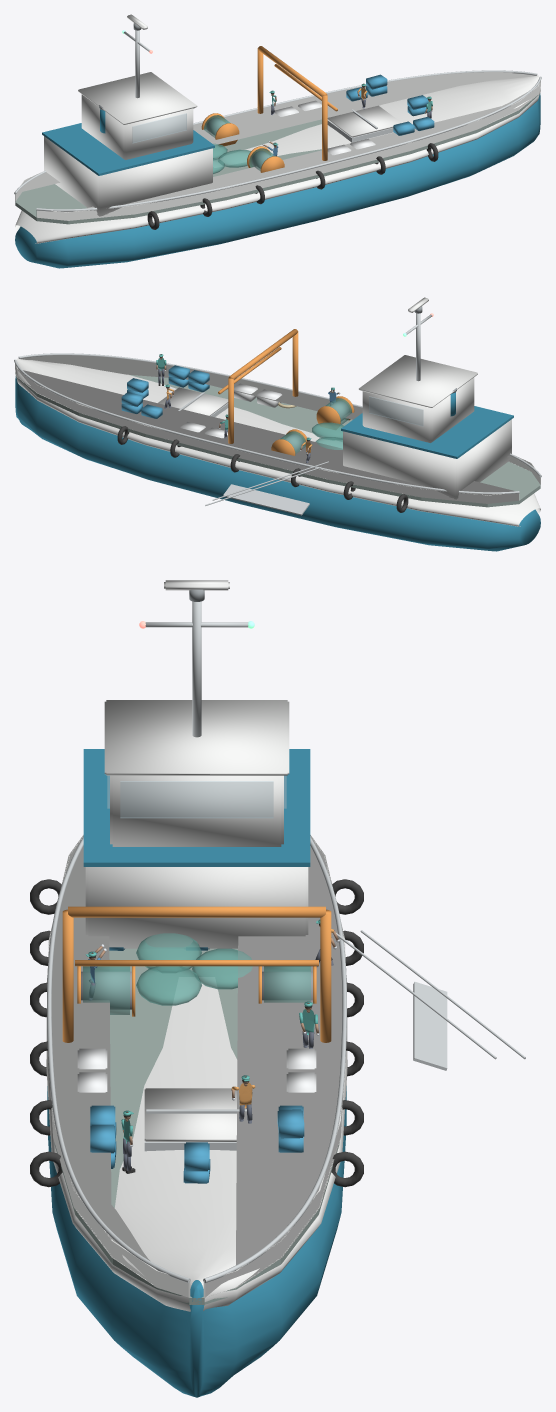
The model's file is large_fishing_vessel.glb.
3 views of the same model, one above another, from view 1: azimuth 30°, elevation 25°; view 2: azimuth 150°, elevation 25°; view 3: azimuth 270°, elevation 25° (orthographic). The views are drawn at different scales.
Visible parts, largest first — view 1: Hull, HullTopside, BulwarkPlate_S, DeckHouse, BulwarkPlate_P, Deck, WheelhouseBody, WheelhouseRoof, DeckHouseTrim, Bulwark_S, HatchLid, WheelhouseGlassS (+10 smaller); view 2: Hull, BulwarkPlate_P, HullTopside, DeckHouse, Deck, WheelhouseBody, WheelhouseRoof, BulwarkPlate_S, DeckHouseTrim, Bulwark_P, GangwayPlank, HatchLid (+11 smaller); view 3: BulwarkPlate_P, HullTopside, Hull, DeckHouse, BulwarkPlate_S, WheelhouseRoof, WheelhouseBody, Deck, DeckHouseTrim, WheelhouseGlassF, HatchLid, GantryBeam (+14 smaller).
Boxes of the visible parts, box(x1,y1,x2,y2) form: Hull: box(15, 93, 540, 268); HullTopside: box(15, 75, 540, 243); BulwarkPlate_S: box(36, 81, 540, 220); DeckHouse: box(44, 136, 212, 216); BulwarkPlate_P: box(15, 72, 537, 201); Deck: box(15, 90, 540, 224); WheelhouseBody: box(81, 94, 193, 159); WheelhouseRoof: box(78, 72, 197, 124); DeckHouseTrim: box(42, 123, 214, 175); Bulwark_S: box(36, 76, 541, 211); HatchLid: box(327, 105, 401, 137); WheelhouseGlassS: box(132, 113, 186, 143); Hull: box(15, 376, 540, 551); BulwarkPlate_P: box(15, 364, 519, 503); HullTopside: box(15, 358, 540, 526); DeckHouse: box(343, 419, 511, 499); Deck: box(15, 372, 540, 507); WheelhouseBody: box(362, 377, 474, 442); WheelhouseRoof: box(358, 355, 477, 407); BulwarkPlate_S: box(18, 355, 540, 484); DeckHouseTrim: box(341, 406, 513, 458); Bulwark_P: box(14, 359, 519, 493); GangwayPlank: box(223, 484, 309, 515); HatchLid: box(158, 387, 228, 415); BulwarkPlate_P: box(203, 835, 345, 1297); HullTopside: box(46, 977, 347, 1311); Hull: box(47, 1086, 346, 1397); DeckHouse: box(85, 867, 308, 948); BulwarkPlate_S: box(48, 835, 190, 1297); WheelhouseRoof: box(104, 700, 289, 775); WheelhouseBody: box(110, 775, 283, 846); Deck: box(54, 948, 339, 1304); DeckHouseTrim: box(83, 749, 310, 866); WheelhouseGlassF: box(120, 781, 273, 818); HatchLid: box(144, 1088, 236, 1141); GantryBeam: box(68, 906, 325, 917).
Bounding box in the file's own units: 34.1 × 14.24 × 14.24.
